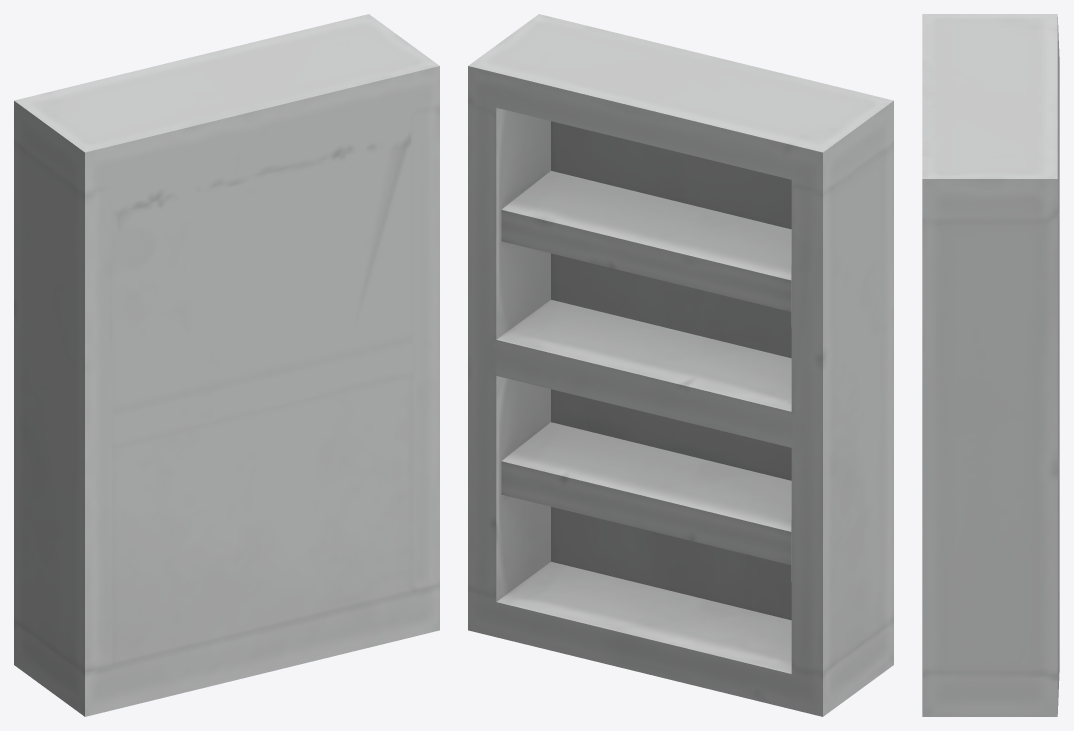
File: Pfb_Indoors_Study_Shelf.fbx
3 views of the same model, side by side, from view 1: azimuth 30°, elevation 25°; view 2: azimuth 150°, elevation 25°; view 3: azimuth 270°, elevation 25° (orthographic). The views are drawn at different scales.
Visible parts, largest first — view 1: Mat_Indoors_Study_01_2_JLAB 1; view 2: Mat_Indoors_Study_01_2_JLAB 1; view 3: Mat_Indoors_Study_01_2_JLAB 1.
Part boxes in pixels (<box>): Mat_Indoors_Study_01_2_JLAB 1: <box>14,14,439,716</box>; Mat_Indoors_Study_01_2_JLAB 1: <box>468,14,893,716</box>; Mat_Indoors_Study_01_2_JLAB 1: <box>922,14,1059,716</box>.
Size of the model in its own units: 1.77 by 2.68 by 0.6209.
1 material, 1 textured.
